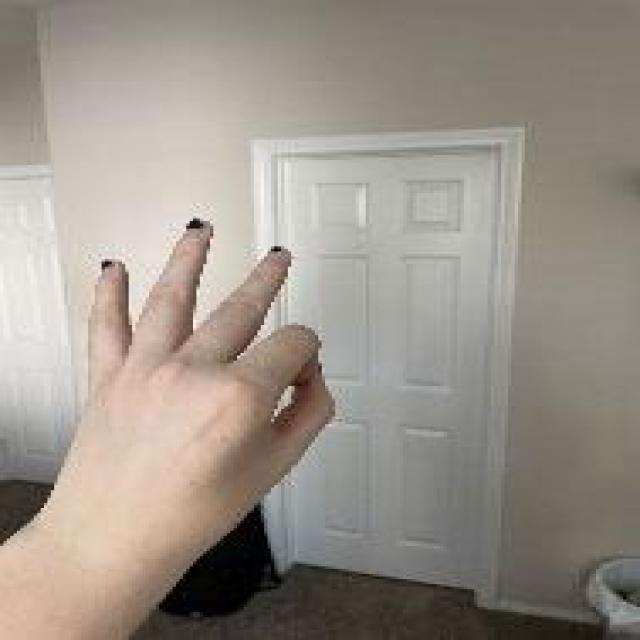F: (71, 216, 356, 521)
